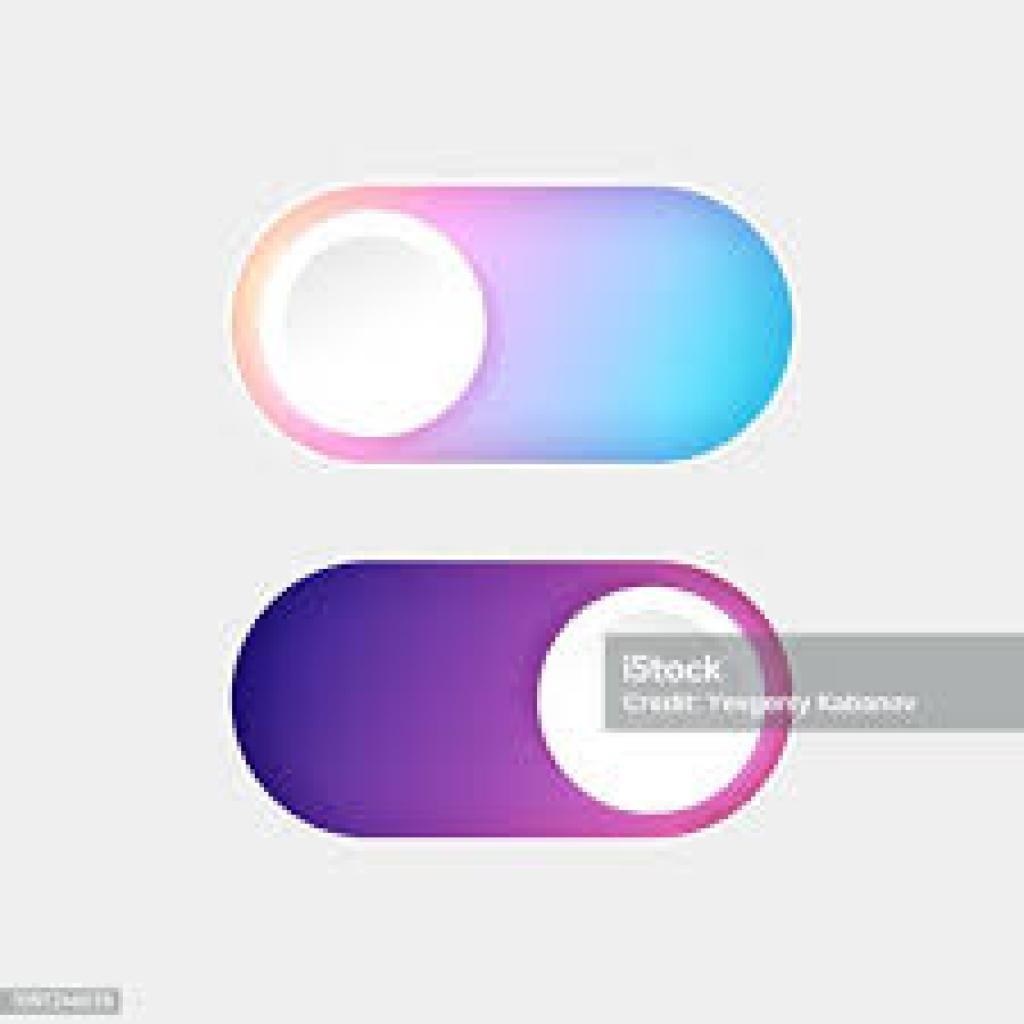switch: (225, 552, 795, 845), (229, 181, 793, 471)
